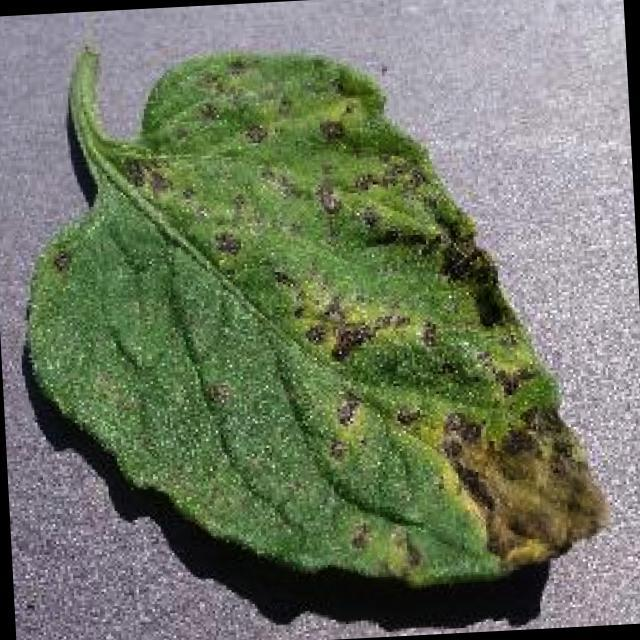Tomato Septoria spot leaf: (14, 36, 604, 605)
